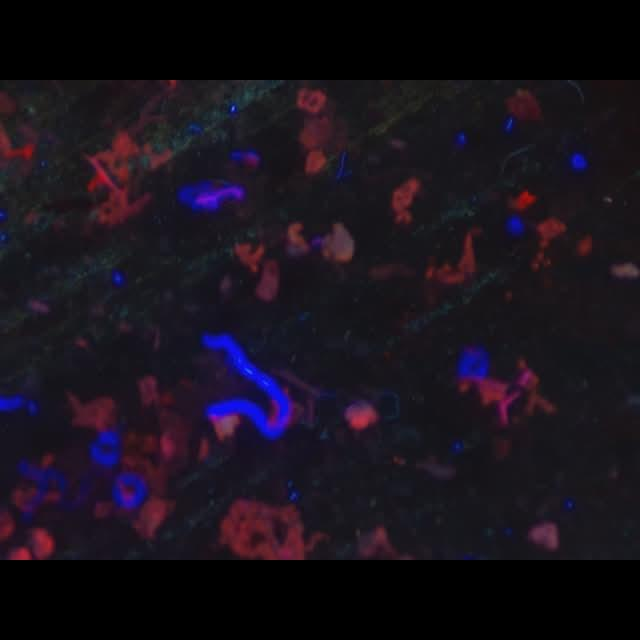Fragment: (391, 177, 421, 223)
